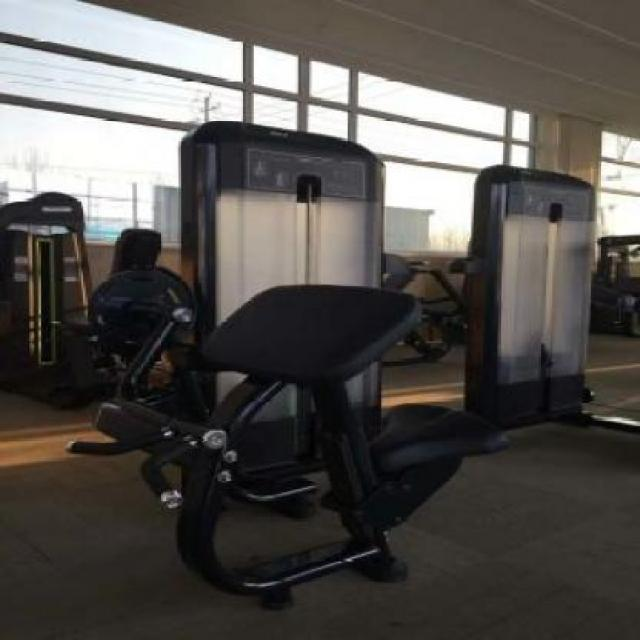arm curl machine: (72, 268, 508, 608)
